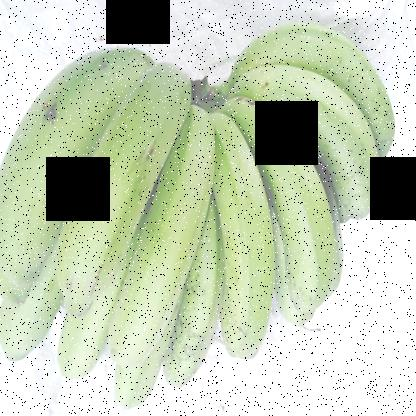freshunripe: (107, 93, 223, 374)
unripe: (0, 32, 152, 296), (58, 64, 196, 322), (231, 99, 342, 314), (229, 77, 399, 215), (207, 126, 283, 377), (163, 229, 236, 397), (0, 287, 52, 373)
